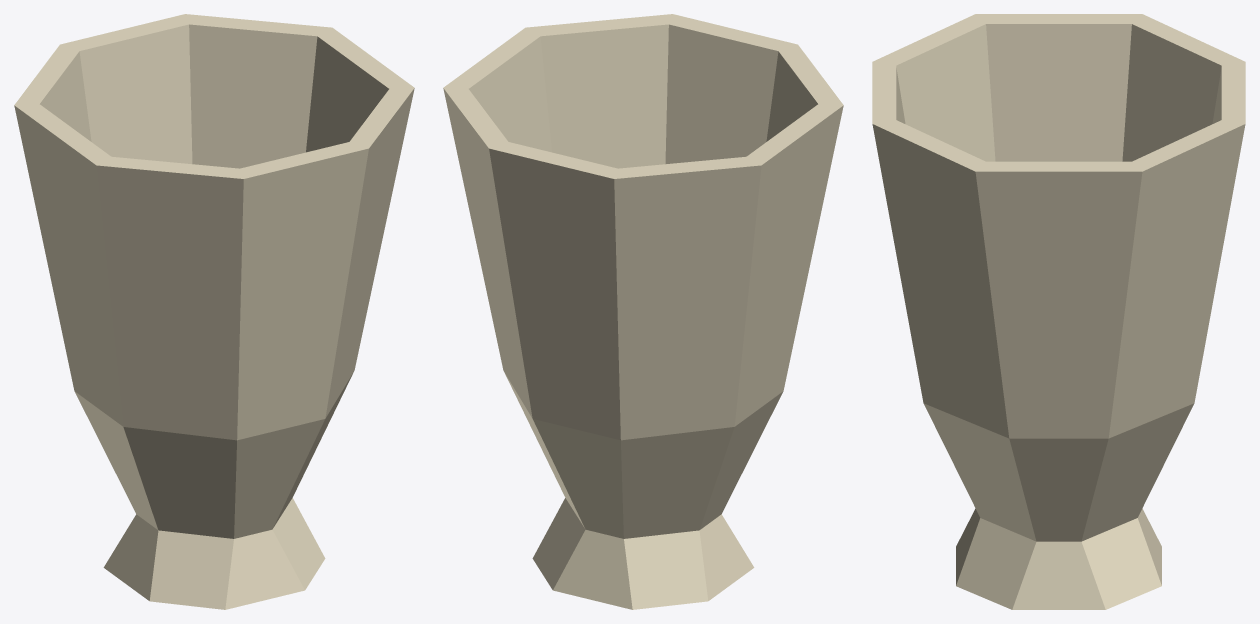
Rendered from Vase.fbx.
3 renders of one model, left to right at view 1: azimuth 30°, elevation 25°; view 2: azimuth 150°, elevation 25°; view 3: azimuth 270°, elevation 25°, orthographic.
Parts seen in each view (by area): view 1: Vase; view 2: Vase; view 3: Vase.
Boxes of the visible parts, x1,y1,x2,y2 form: Vase: [14, 14, 414, 609]; Vase: [443, 14, 843, 609]; Vase: [872, 14, 1245, 609].
Size of the model in its own units: 362 by 507 by 362.
